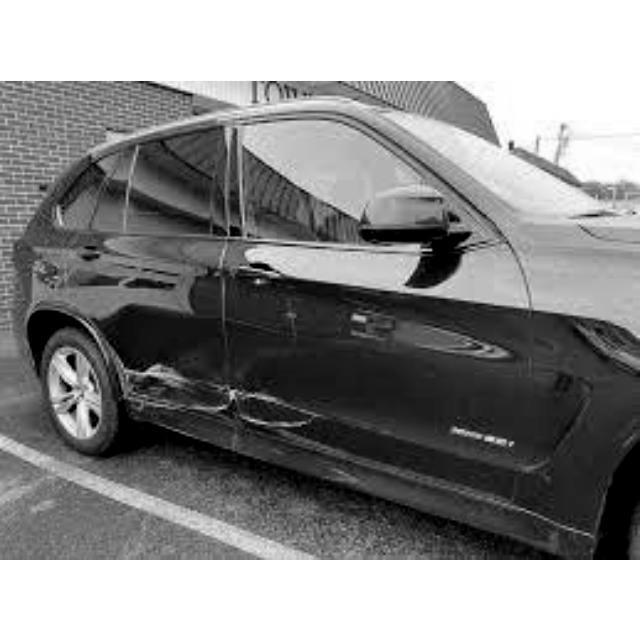Runningboard-Damage: (299, 451, 469, 520)
doorouter-dent: (228, 244, 524, 416), (67, 239, 230, 414)
